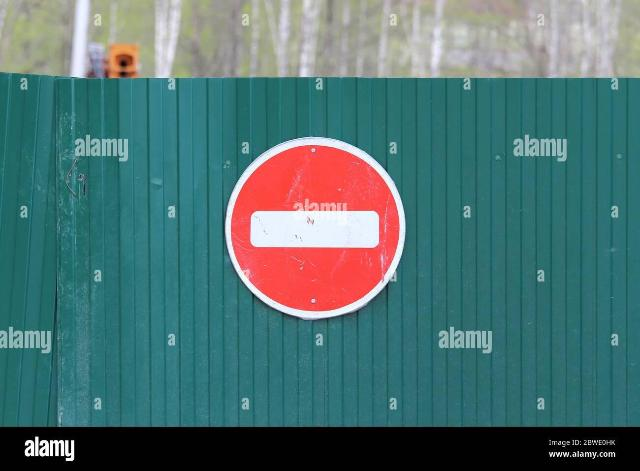B2: (224, 136, 406, 320)
